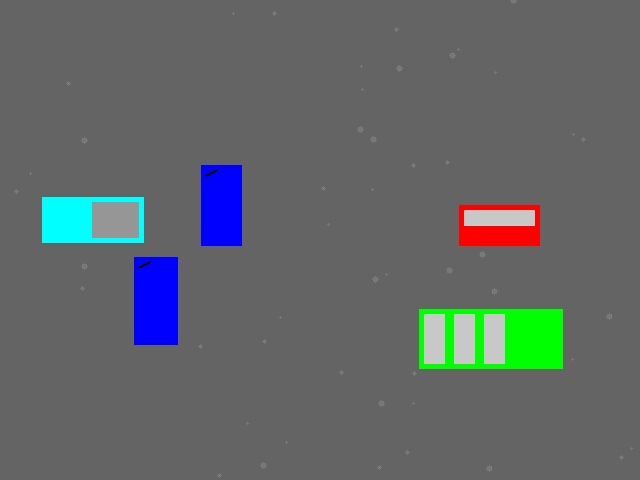bus: (419, 309, 562, 368)
car: (459, 205, 539, 245)
motorcycle: (134, 257, 177, 344), (201, 165, 241, 245)
truck: (42, 197, 143, 242)
